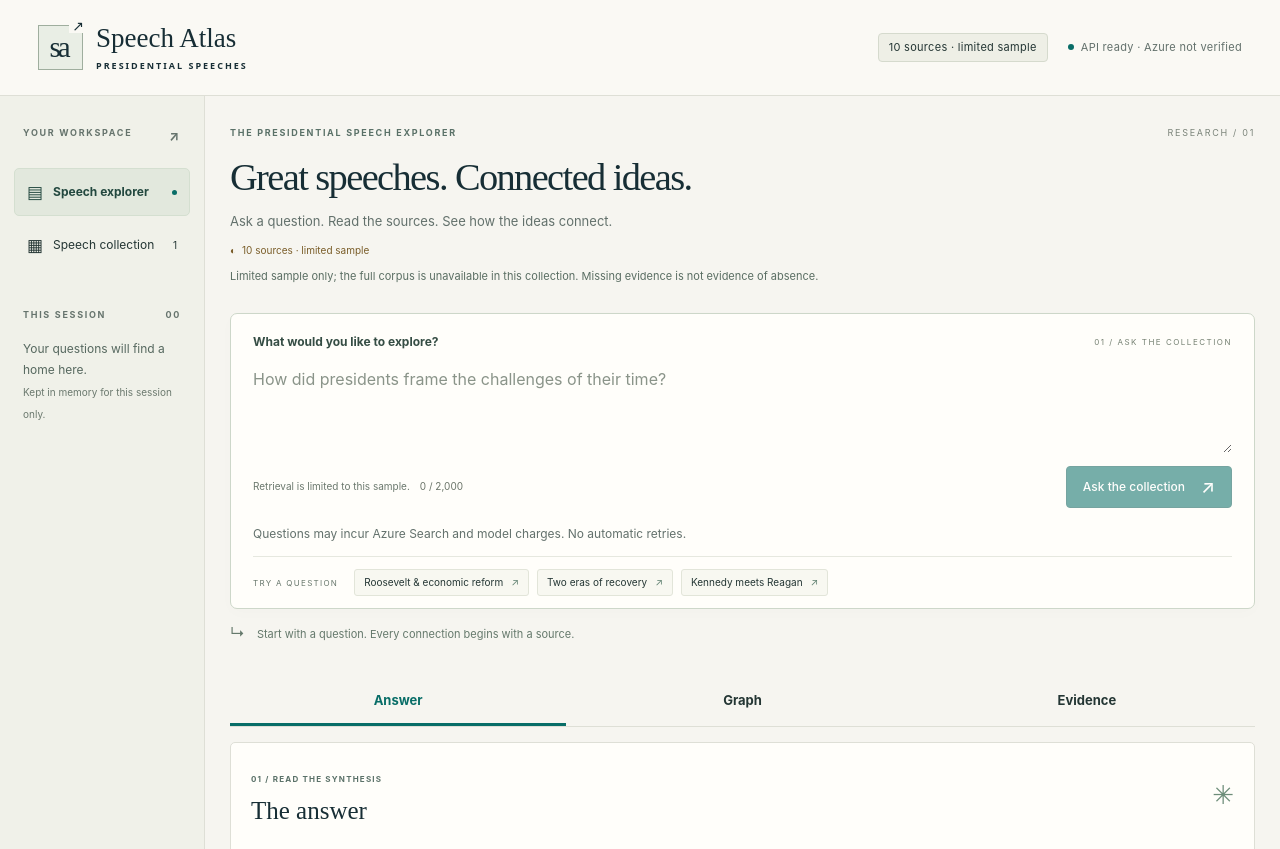
research workspace › explains HTTP 401 gateway failure without prompting for login
Type "How are the test topics connected?" into the text box labelled "What would you like to explore?" at (742, 402), box [253,352,1232,453]
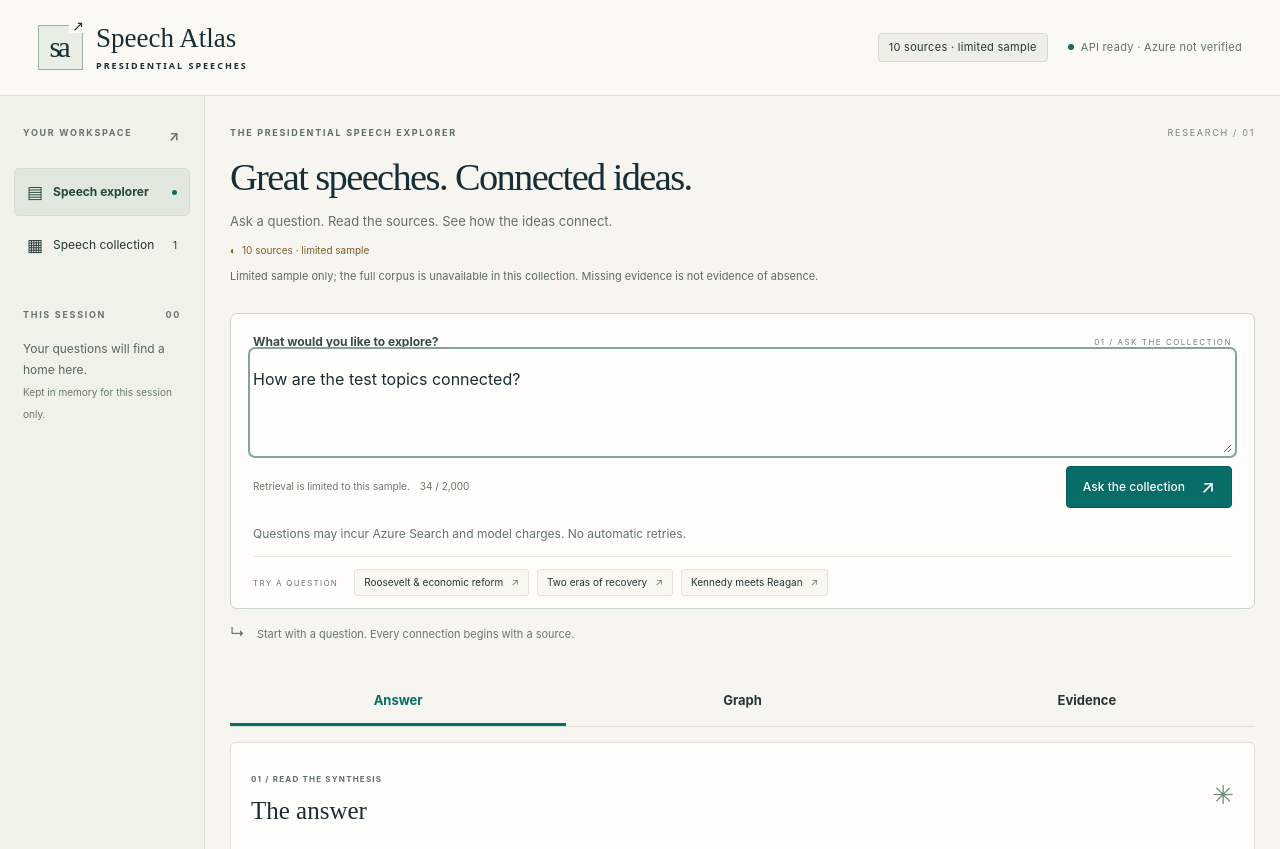
Click the button "Ask the collection ↗" at (1149, 487), box [1066,466,1232,508]
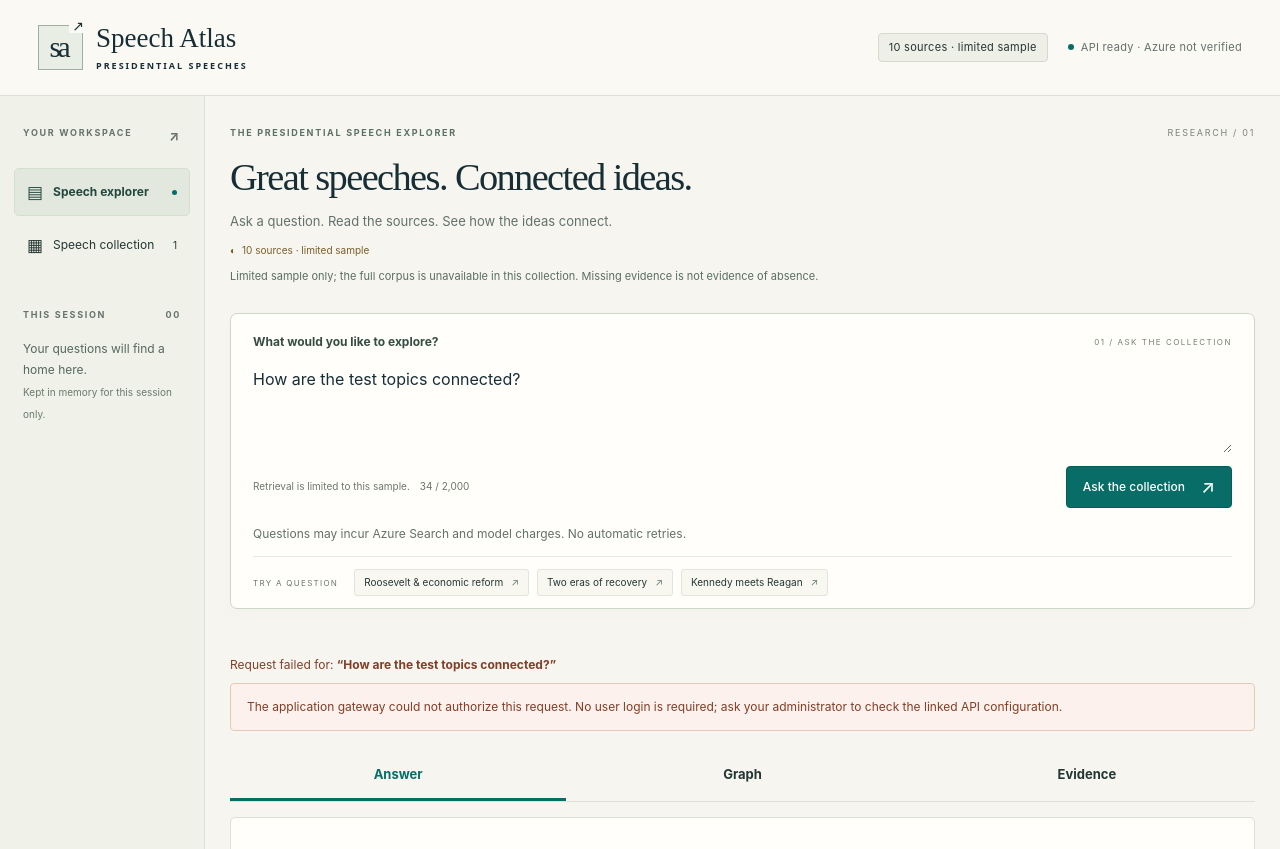
Check: the 2nd message shows "No user login is required", box [247,699,1062,714]
